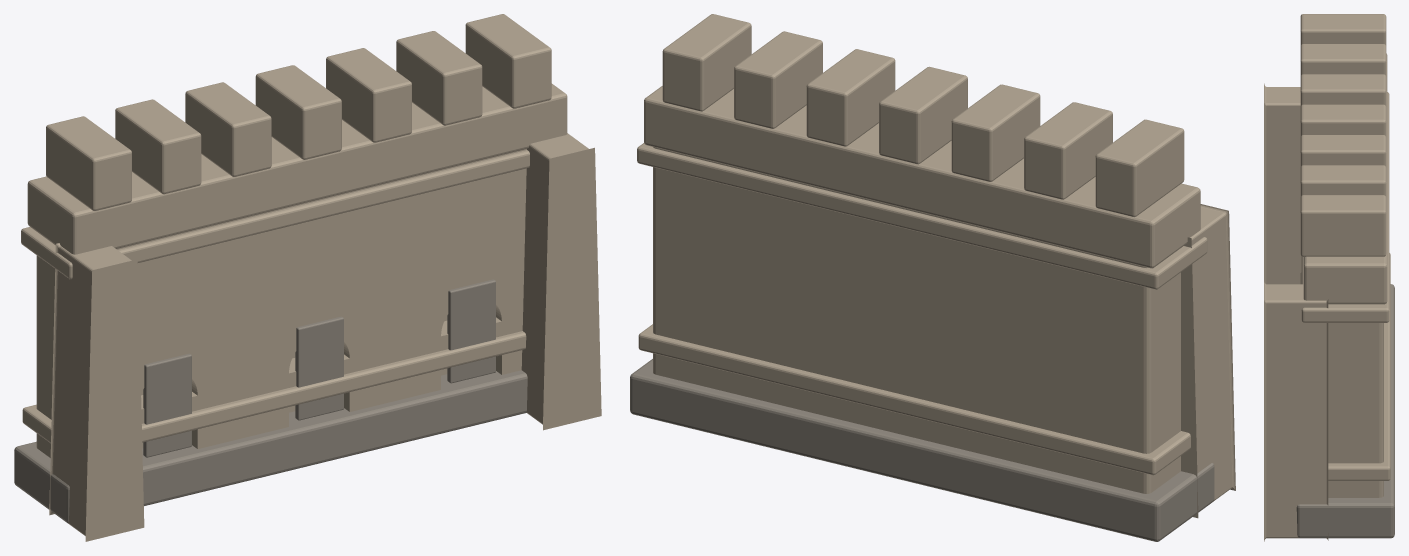
Rendered from Valoria_WallSegment_v1.glb.
3 views of the same model, side by side, from view 1: azimuth 30°, elevation 25°; view 2: azimuth 150°, elevation 25°; view 3: azimuth 270°, elevation 25° (orthographic). The views are drawn at different scales.
Parts seen in each view (by area): view 1: wall masonry core, wall parapet, stone buttress.002, stone buttress.003, wall plinth, wall upper string, wall lower string, wall merlon, wall merlon.002, wall merlon.005, wall merlon.003, wall merlon.006 (+5 smaller); view 2: wall masonry core, wall parapet, wall plinth, stone buttress.002, wall lower string, wall upper string, wall merlon, wall merlon.004, wall merlon.002, wall merlon.005, wall merlon.003, wall merlon.006 (+1 smaller); view 3: stone buttress.003, wall masonry core, stone buttress.002, wall merlon.006, wall plinth, wall parapet, wall merlon.001, wall merlon.004, wall merlon.003, wall merlon.002, wall merlon, wall merlon.005 (+2 smaller).
Boxes of the visible parts, x1,y1,x2,y2 form: wall masonry core: [36, 149, 526, 457]; wall parapet: [27, 83, 567, 254]; stone buttress.002: [49, 243, 144, 541]; stone buttress.003: [521, 133, 601, 430]; wall plinth: [14, 370, 527, 523]; wall upper string: [21, 150, 529, 279]; wall lower string: [22, 331, 526, 443]; wall merlon: [46, 116, 131, 210]; wall merlon.002: [185, 82, 271, 176]; wall merlon.005: [396, 31, 482, 125]; wall merlon.003: [255, 65, 341, 159]; wall merlon.006: [465, 14, 551, 108]; wall masonry core: [653, 147, 1180, 493]; wall parapet: [644, 86, 1200, 268]; wall plinth: [630, 359, 1214, 541]; stone buttress.002: [1181, 204, 1235, 518]; wall lower string: [638, 324, 1190, 475]; wall upper string: [637, 143, 1207, 289]; wall merlon: [1095, 119, 1184, 216]; wall merlon.004: [806, 49, 895, 146]; wall merlon.002: [951, 84, 1040, 181]; wall merlon.005: [734, 31, 822, 128]; wall merlon.003: [879, 66, 967, 164]; wall merlon.006: [662, 14, 751, 111]; stone buttress.003: [1264, 281, 1328, 541]; wall masonry core: [1328, 323, 1383, 497]; stone buttress.002: [1264, 83, 1301, 284]; wall merlon.006: [1300, 195, 1386, 256]; wall plinth: [1296, 284, 1394, 538]; wall parapet: [1303, 53, 1387, 304]; wall merlon.001: [1300, 44, 1386, 76]; wall merlon.004: [1300, 135, 1386, 167]; wall merlon.003: [1300, 104, 1386, 136]; wall merlon.002: [1300, 74, 1386, 106]; wall merlon: [1300, 14, 1386, 45]; wall merlon.005: [1300, 165, 1386, 196].
Size of the model in its own units: 4.92 by 3.28 by 1.22.
